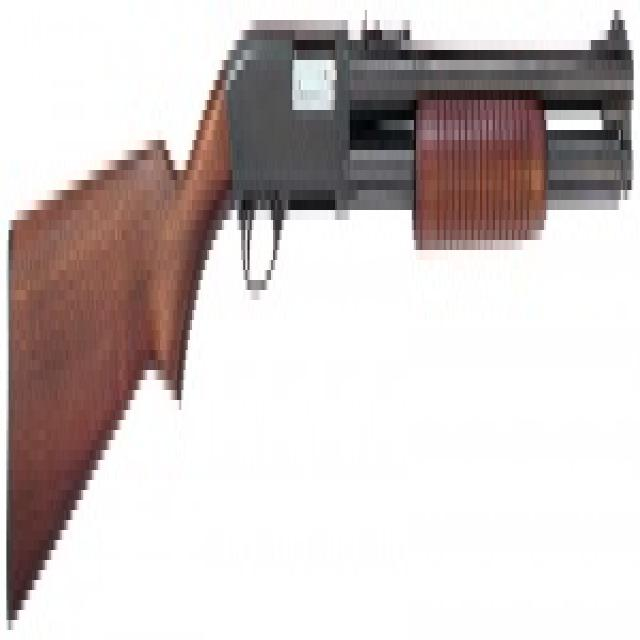rifle: (1, 1, 640, 631)
